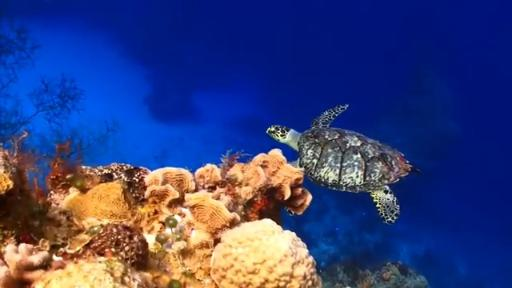Fish: (266, 105, 419, 223)
